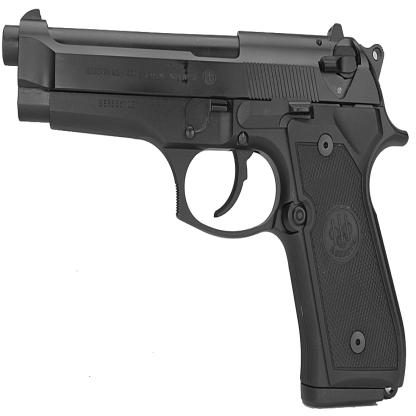handgun: (3, 7, 408, 405)
